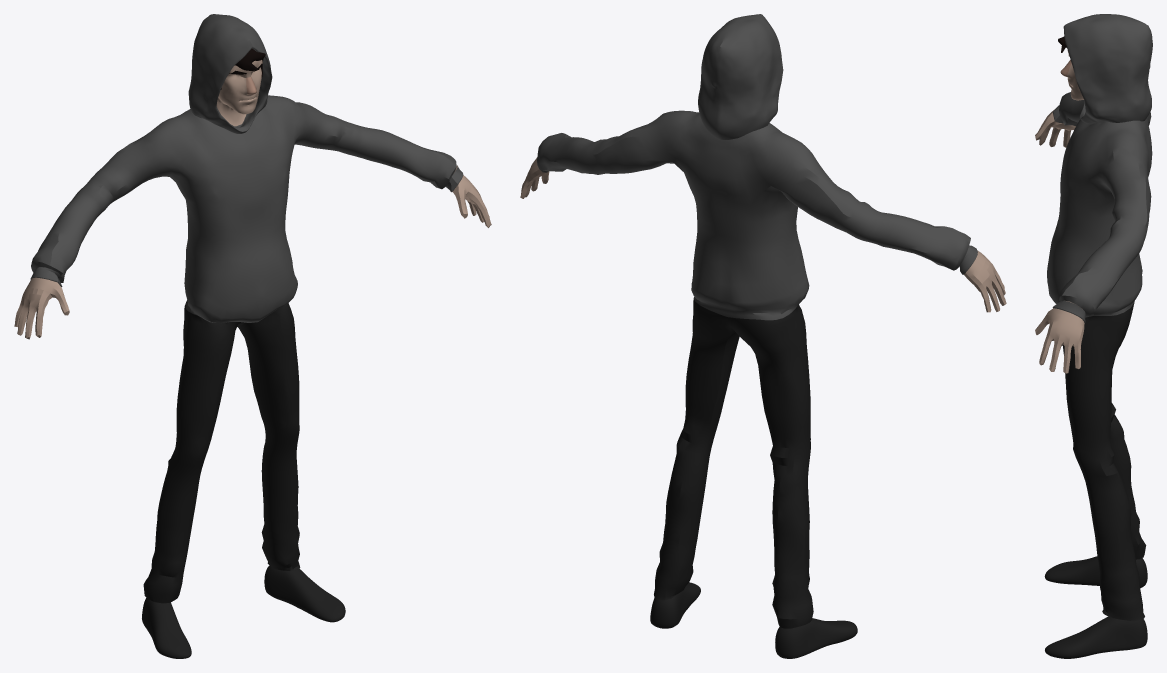
The model's file is HackerBedroomColour.fbx.
3 views of the same model, side by side, from view 1: azimuth 30°, elevation 25°; view 2: azimuth 150°, elevation 25°; view 3: azimuth 270°, elevation 25° (orthographic).
Visible parts, largest first — view 1: HackerTest; view 2: HackerTest; view 3: HackerTest.
Part boxes in pixels (x1=…): HackerTest: x1=14, y1=14, x2=491, y2=658; HackerTest: x1=520, y1=14, x2=1006, y2=658; HackerTest: x1=1035, y1=14, x2=1152, y2=658.
Bounding box in the file's own units: 149 × 183 × 32.56.
